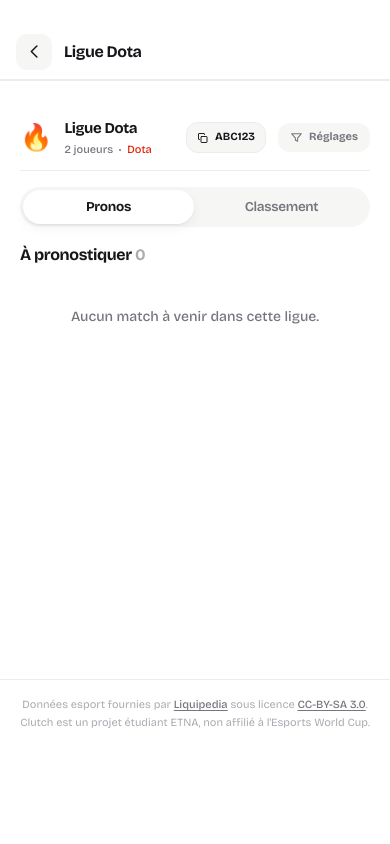
Test: GroupPage › admin can open settings sheet with copy code option
Click the button "Réglages".
click(324, 138)  # box 278,123 -> 370,152
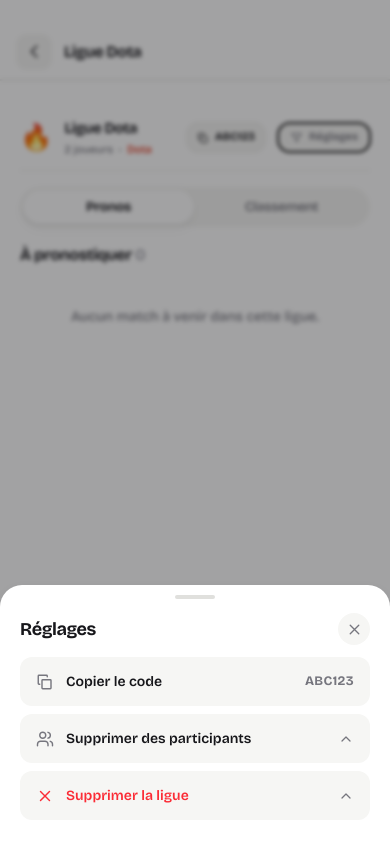
Check: the text "Copier le code" is shown, box 66,673 -> 162,690
